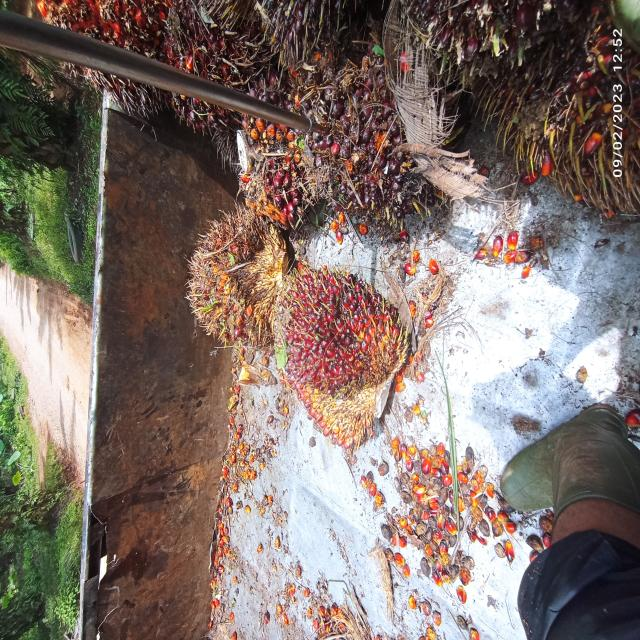fraksi 00: (317, 66, 424, 228)
fraksi 1: (227, 90, 323, 230)
fraksi 3: (267, 260, 438, 448)
fraksi 4: (166, 204, 308, 342)
